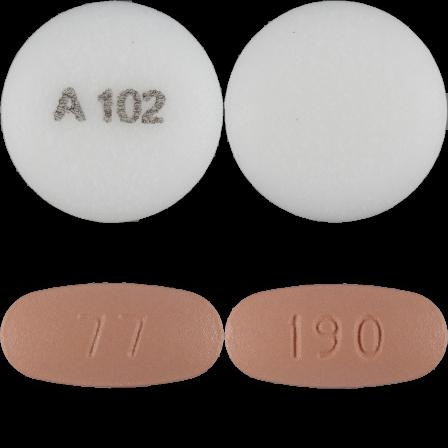42291-183: (0, 0, 224, 224)
